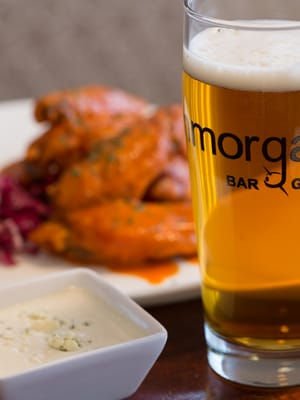sushi: (0, 271, 168, 400)
